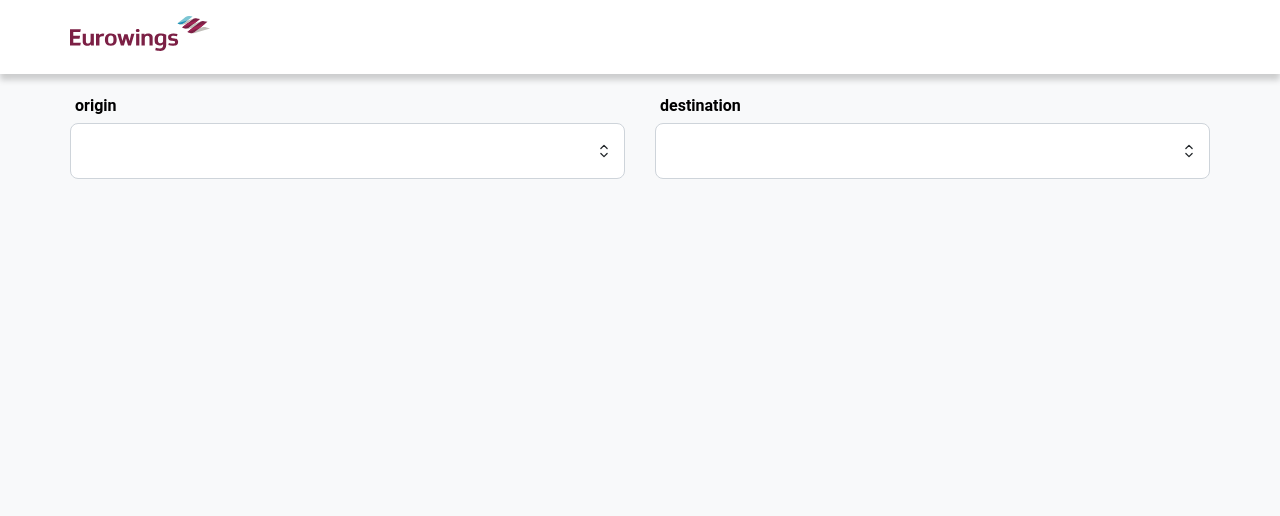
Test: Promotions Search › should display search results
The image size is (1280, 516).
What coordinates should you click on to do the following:
click the 1st button with class "combobox-button"
I would click on:
 (609, 151)
Its box is [594,124,624,178].
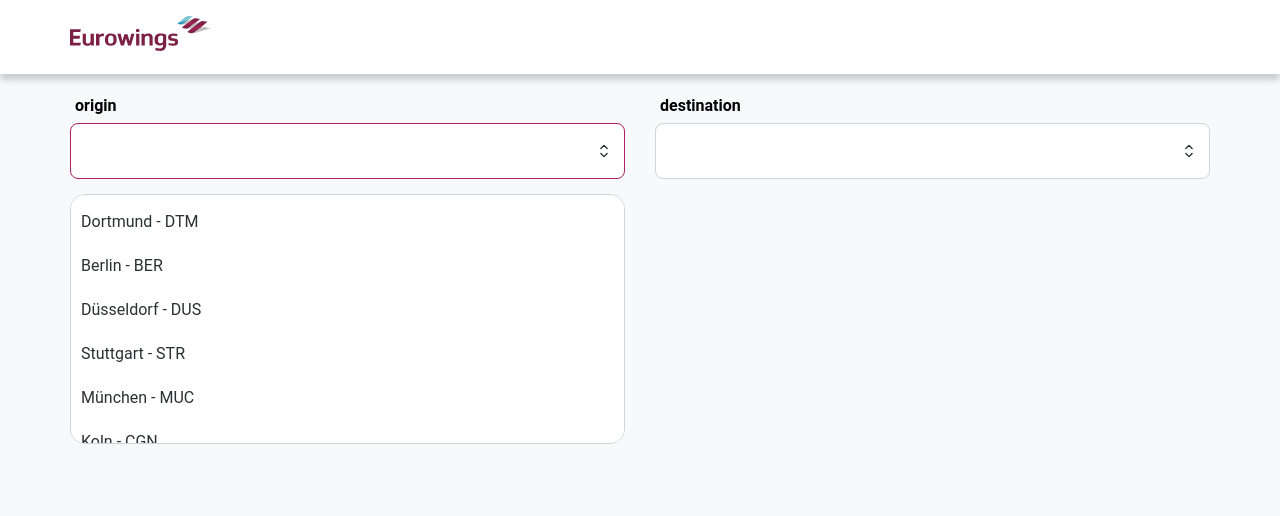
What coordinates should you click on to do the following:
click the option "Dortmund - DTM"
I would click on:
 (140, 222)
Its box is [81,212,199,231].
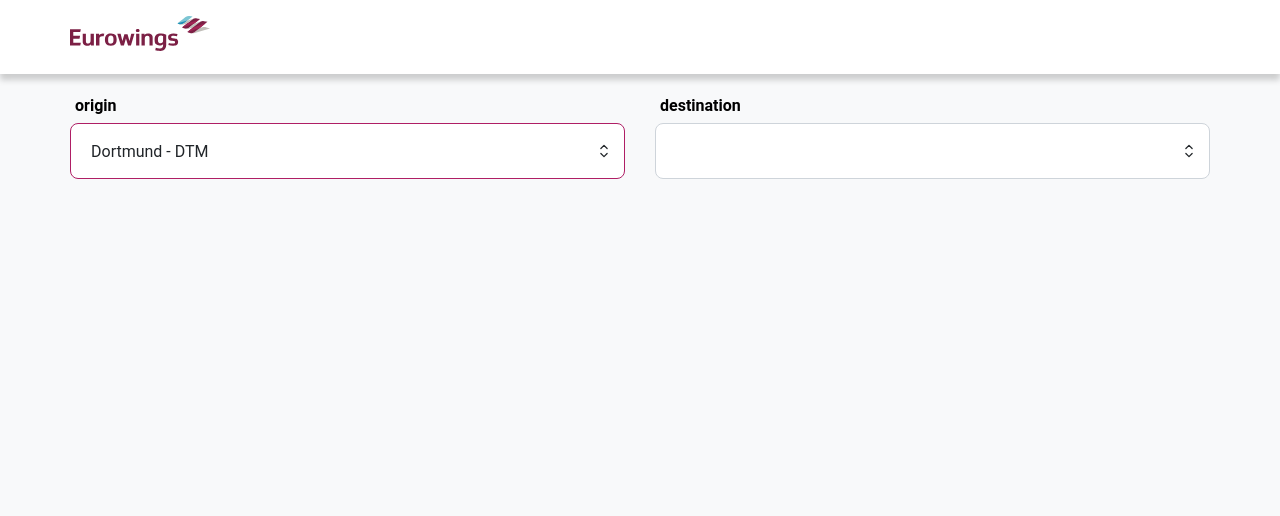
What coordinates should you click on to do the following:
click the 2nd button with class "combobox-button"
I would click on:
 (1194, 151)
Its box is [1179,124,1209,178].
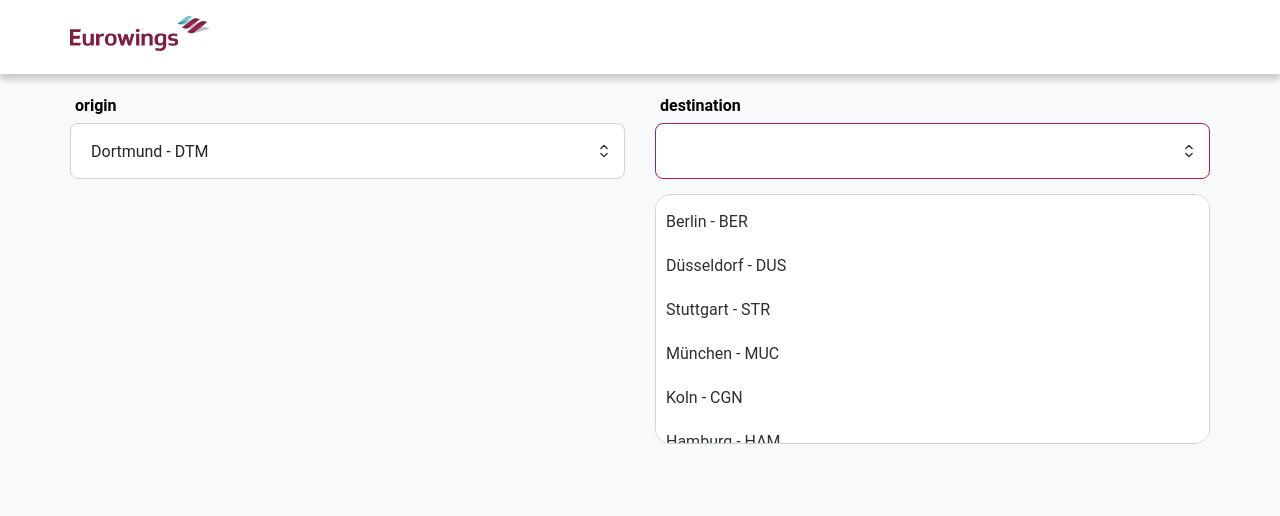
What coordinates should you click on to do the following:
click the option "Berlin - BER"
I would click on:
 (707, 222)
Its box is [666,212,748,231].
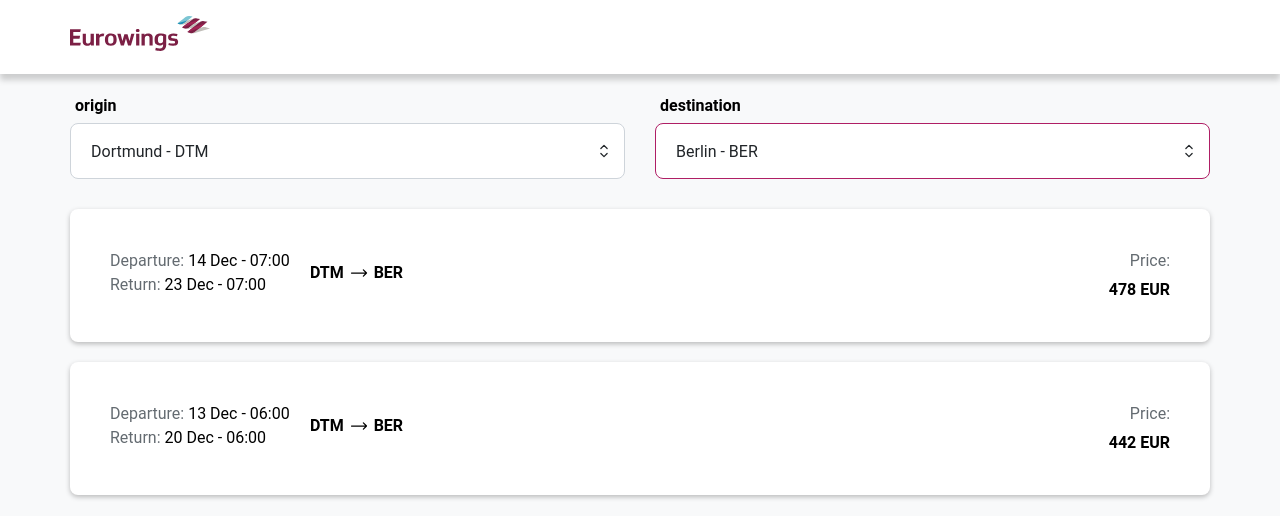
Result: the element that starts with "Departure:" is shown at [70,209,1210,495]
